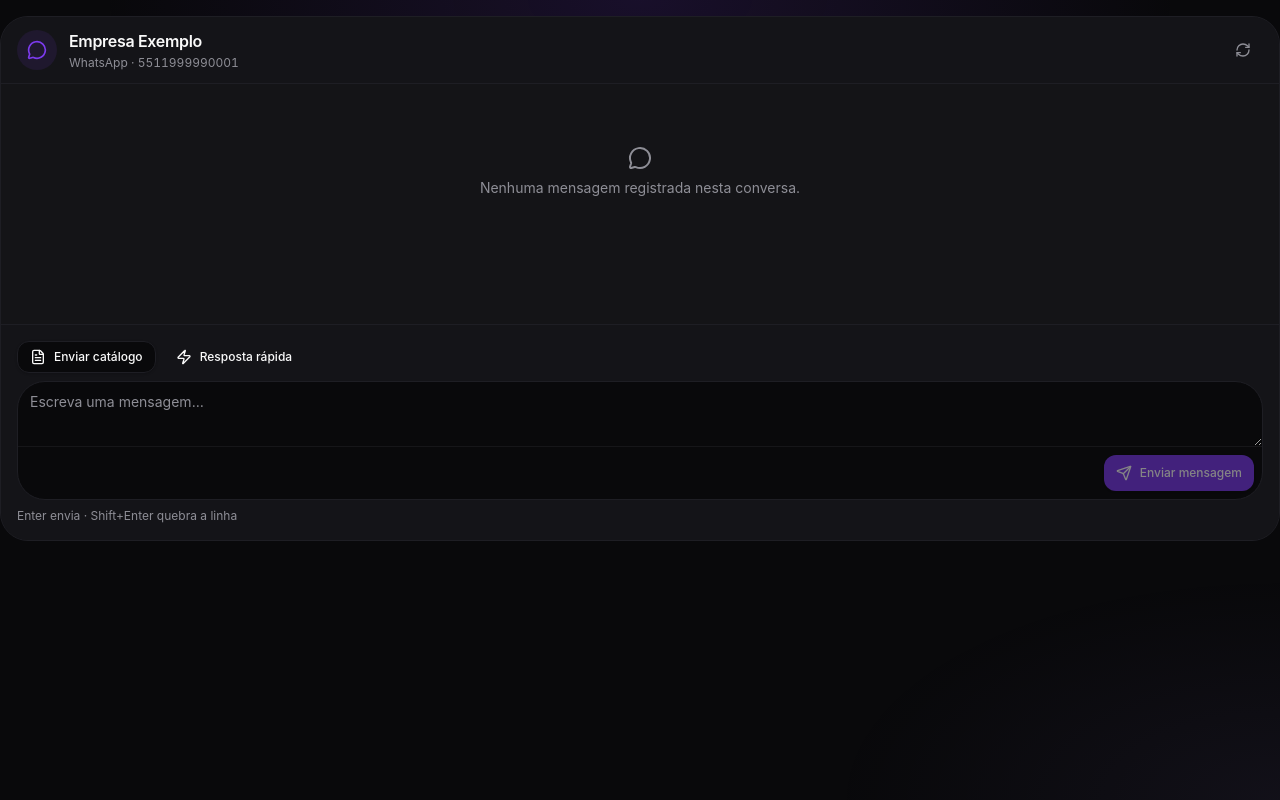
mantém a solicitação original quando o resultado da chamada é desconhecido
The width and height of the screenshot is (1280, 800).
Check: the text "Nenhuma mensagem registrada nesta conversa." is shown, box left=480, top=178, right=800, bottom=198
Type "Mensagem sintética" into the text box named "Sua mensagem" at (640, 414), box left=18, top=382, right=1262, bottom=446
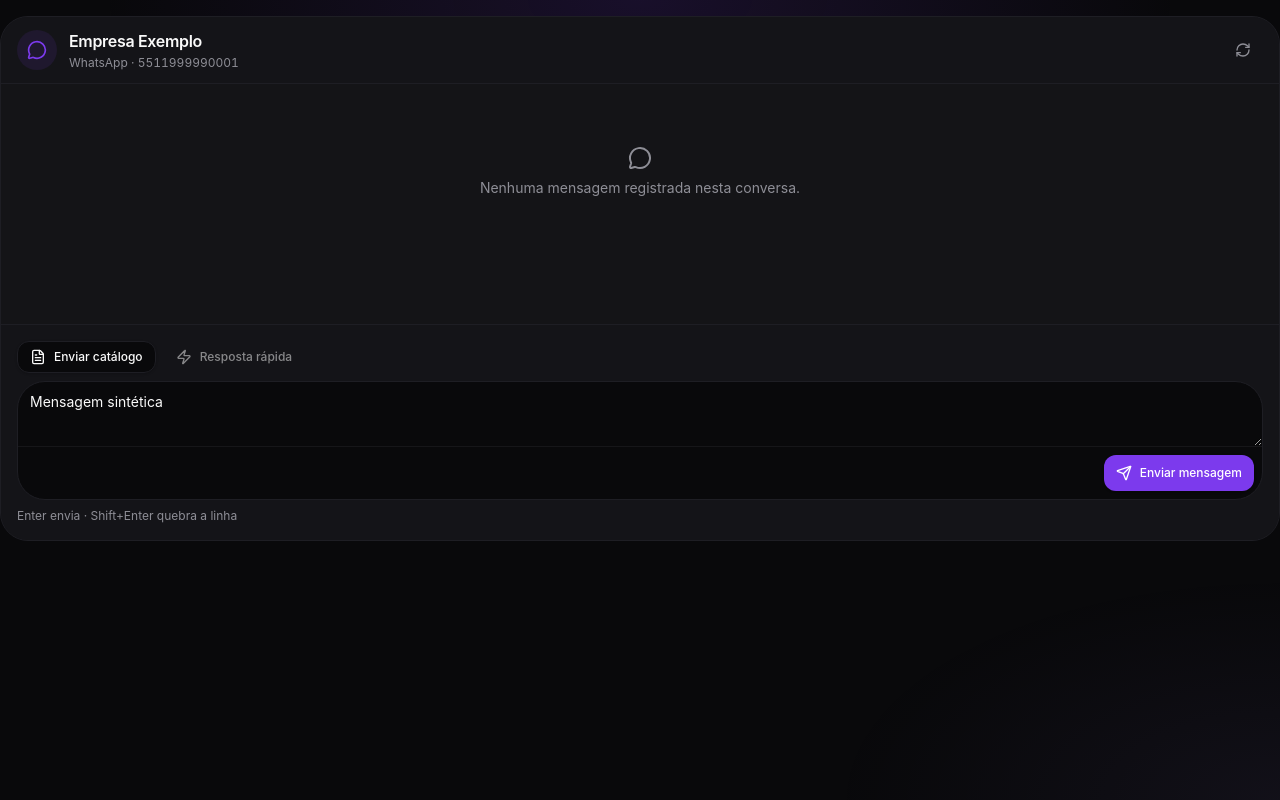
Click the button "Enviar mensagem" at (1179, 473), box left=1104, top=455, right=1254, bottom=491
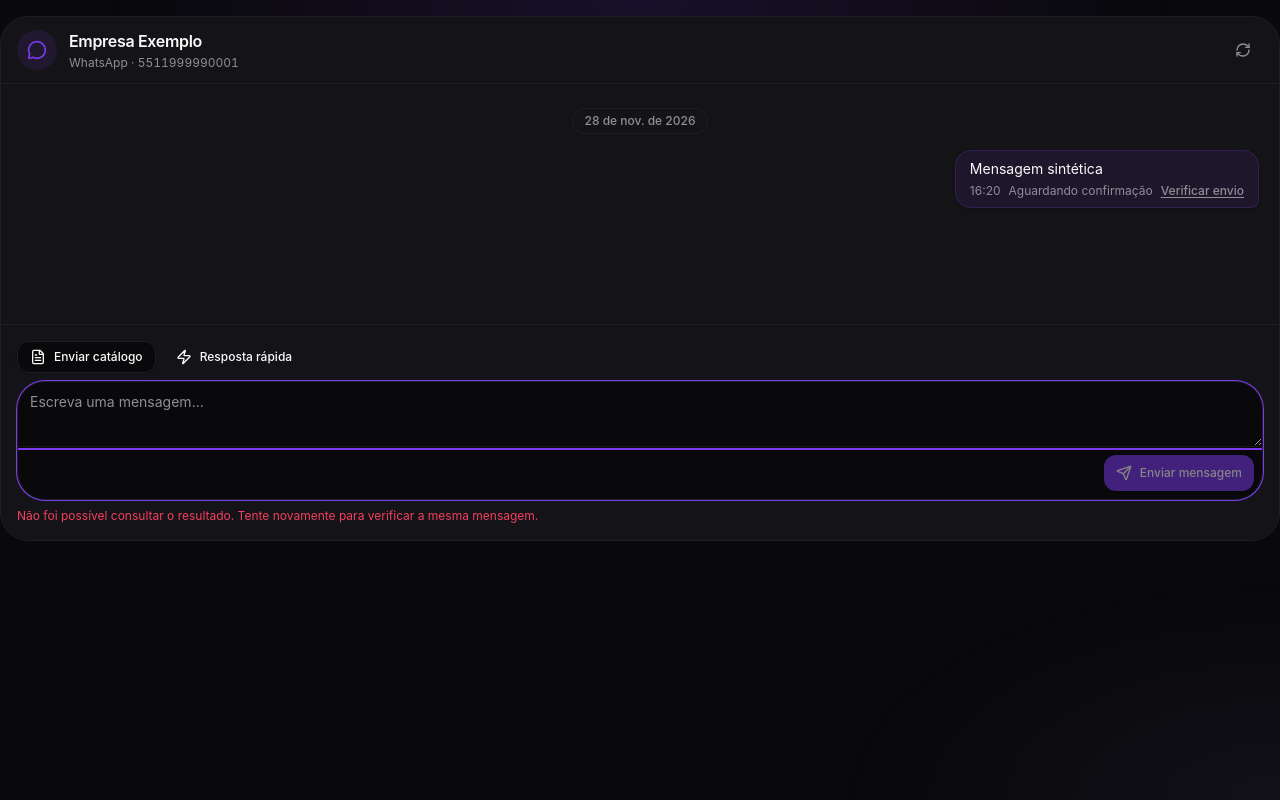
Check: the text "Não foi possível consultar o resultado" is shown, box left=17, top=508, right=538, bottom=523
Click the button "Verificar envio" at (1202, 191), box left=1161, top=183, right=1244, bottom=199
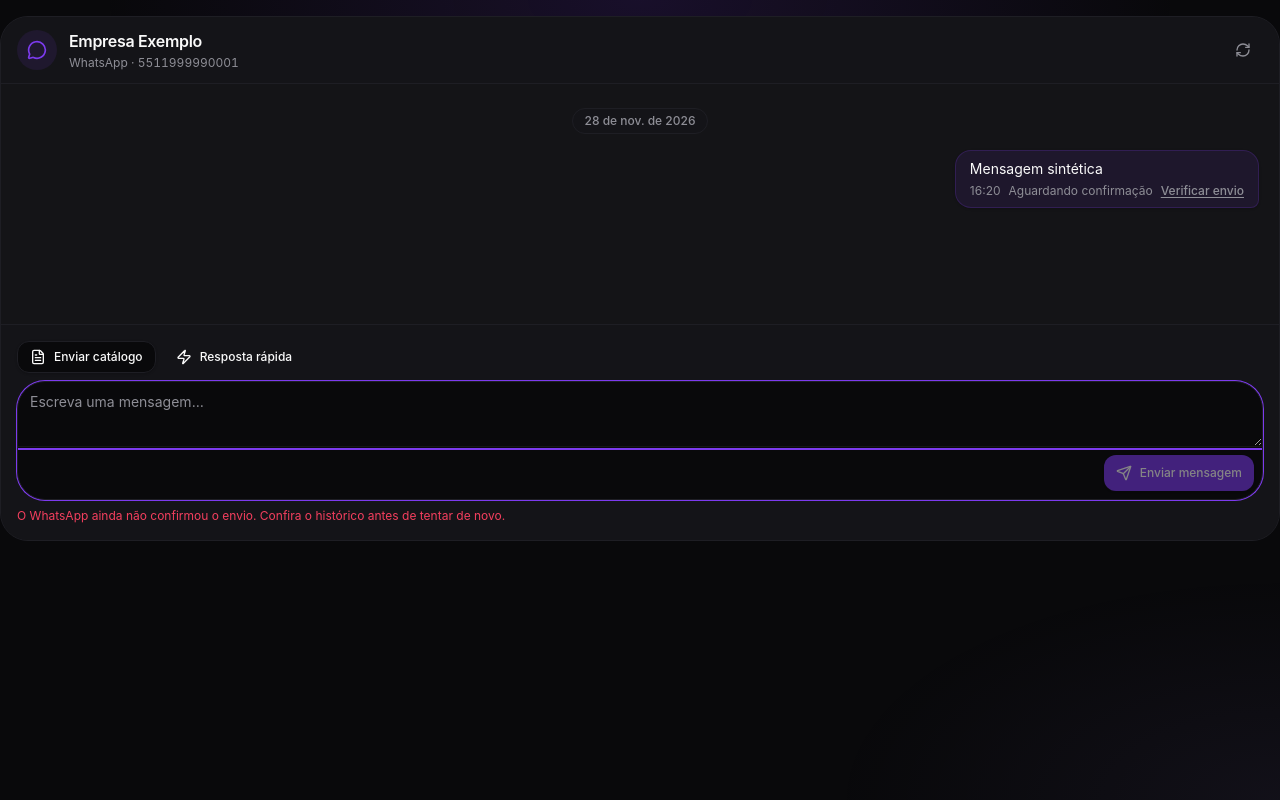
Check: the text "ainda não confirmou" is shown, box left=17, top=508, right=505, bottom=523
